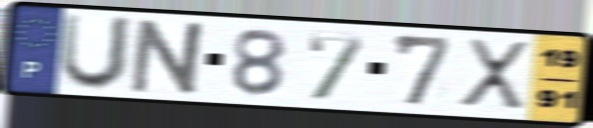7: (390, 32, 457, 108), (304, 28, 369, 103)
8: (231, 26, 287, 99)
N: (126, 17, 214, 98)
U: (55, 11, 138, 93)
X: (456, 36, 533, 115)
